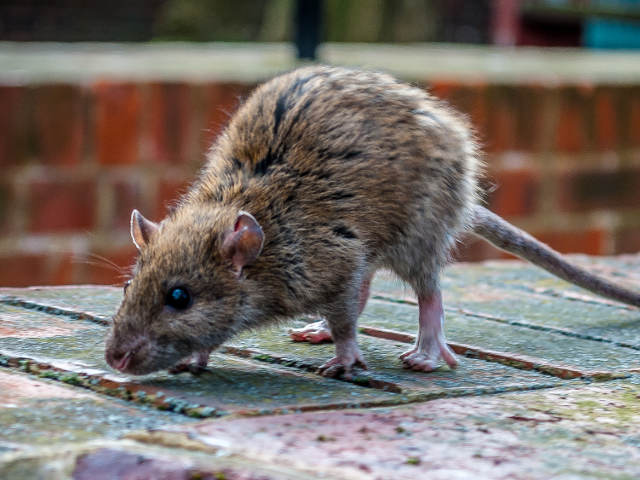rat: (91, 57, 522, 378)
